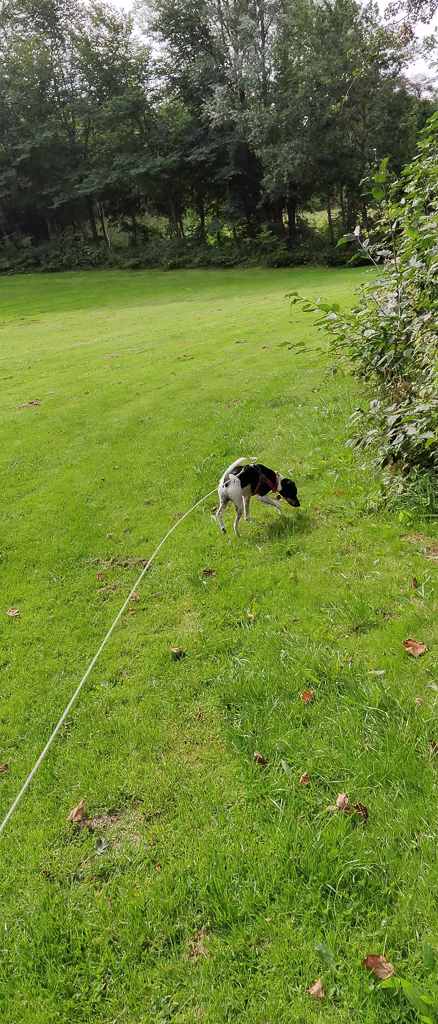Dog: (201, 447, 308, 546)
